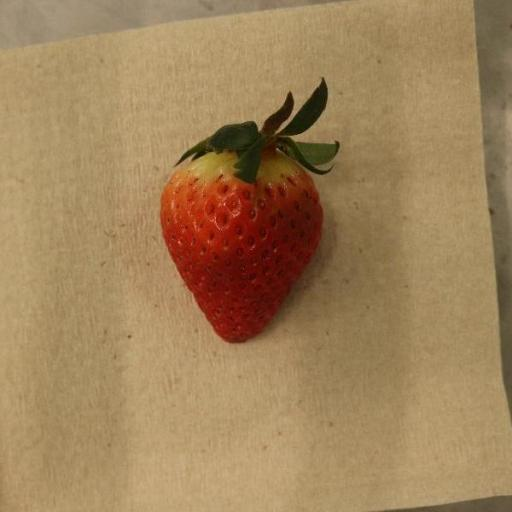Strawberry: (160, 79, 340, 345)
